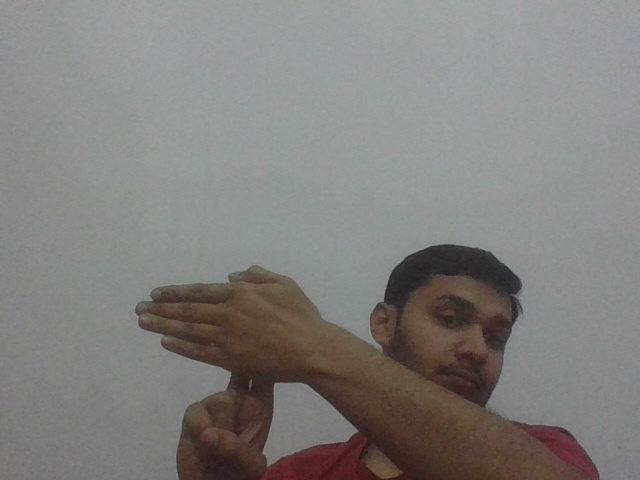N: (133, 263, 315, 400)
